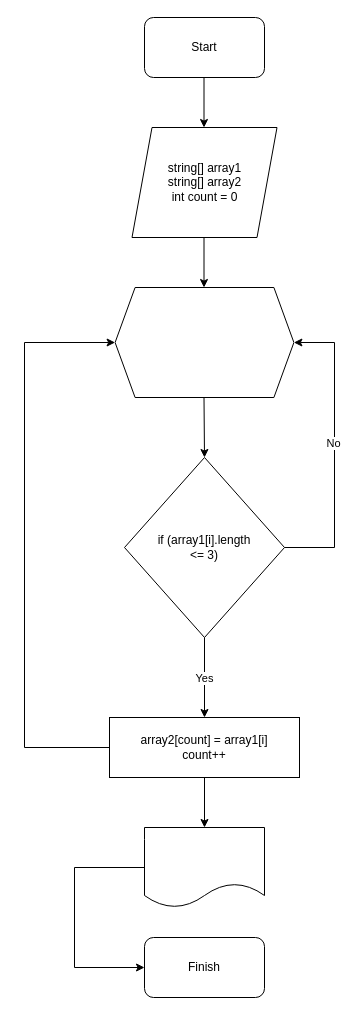
Some shapes in this 360 by 1015 pixel diagram are drawn without their labels. Here are the shapes that lost their labels. From the top down, the centre of each, then its label:
At point (204, 342): "for (int = 0; i<array1.length; i++)".
At point (204, 867): "PrintArray".
